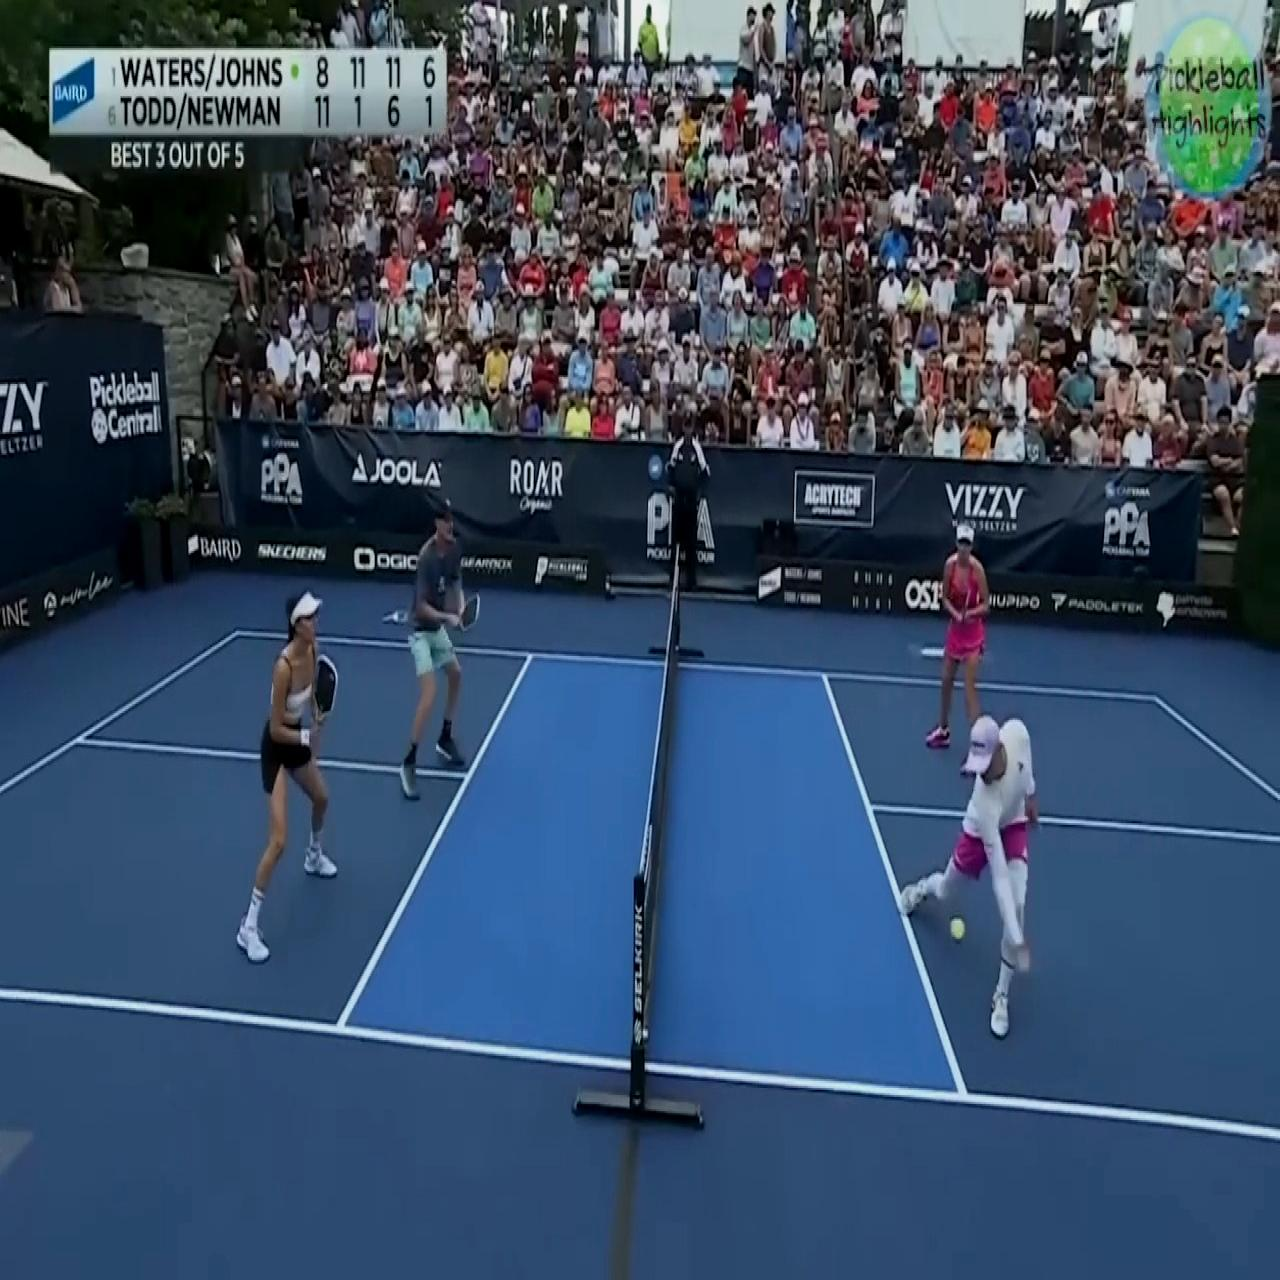Pickleball: (948, 914, 965, 942)
